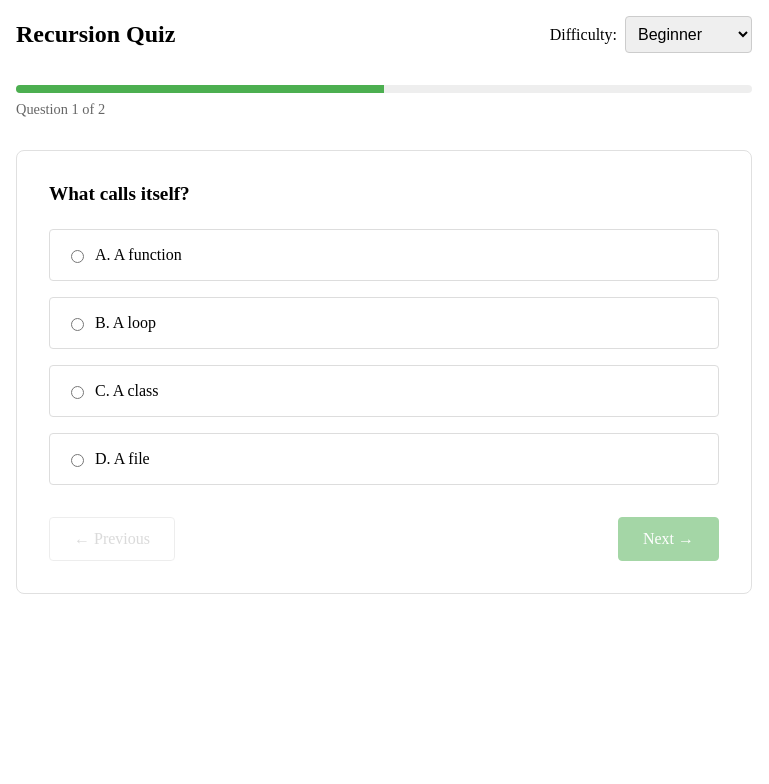
Test case: QuizPage › submits answers and shows the score
This screenshot has width=769, height=784.
Expected: the heading "What calls itself?" is shown, [49,183,190,204]
Click the radio button labelled "A. A function" at (78, 256), box [71,250,84,263]
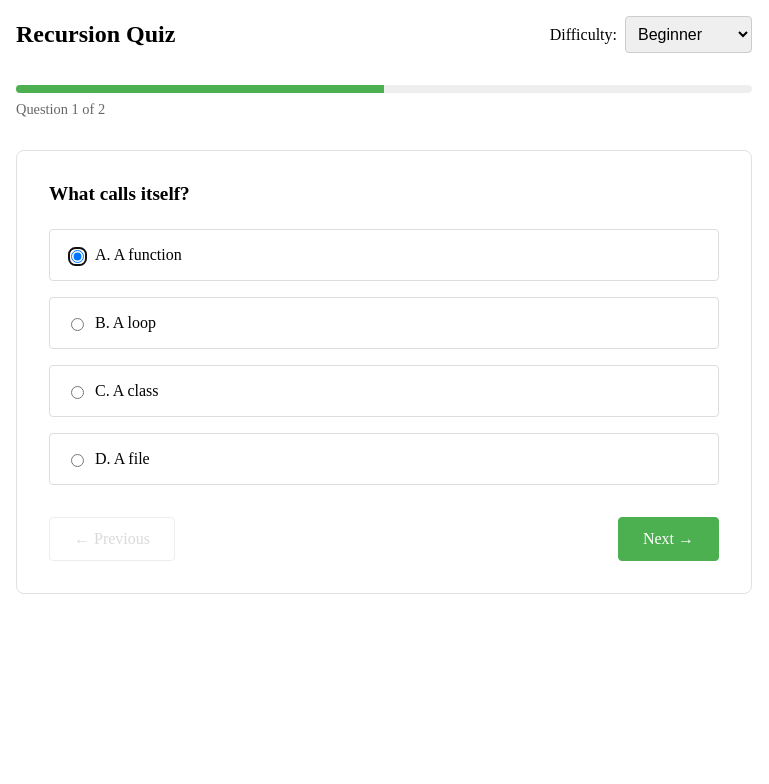
Click the button "Next →" at (668, 539), box [618,517,719,561]
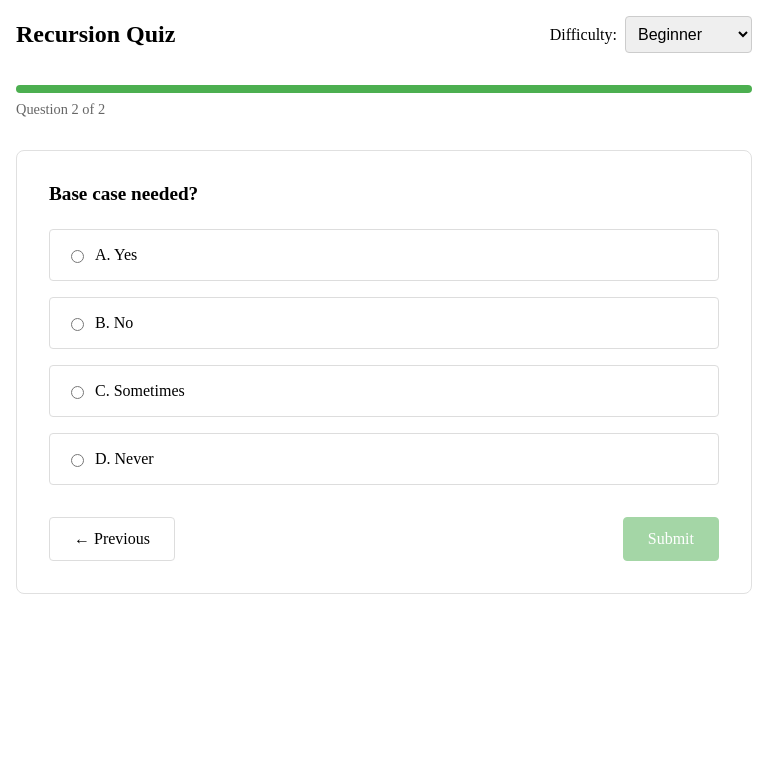
Click the radio button labelled "B. No" at (78, 324), box [71,318,84,331]
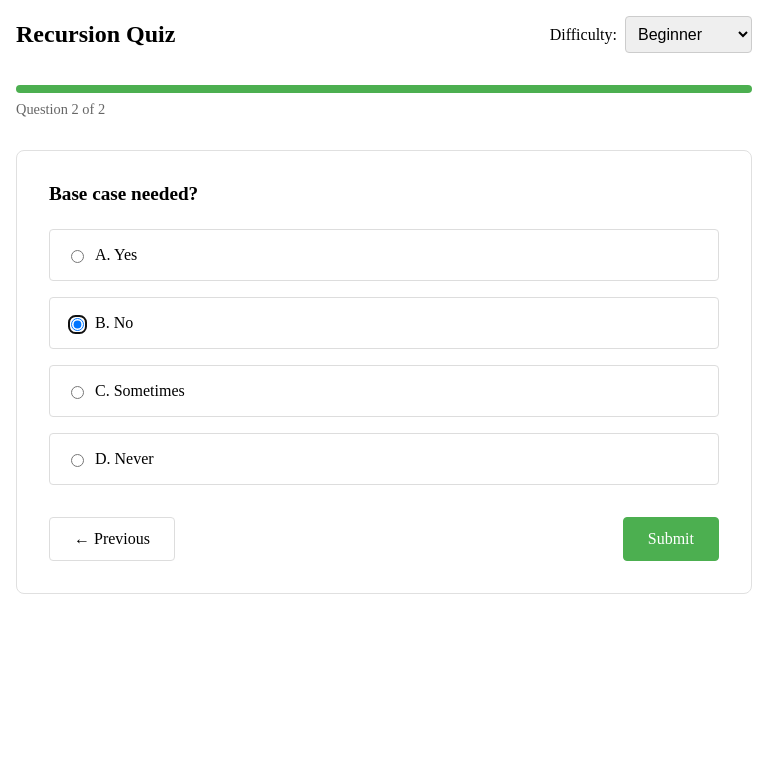
Click the button "Submit" at (671, 539), box [623,517,719,561]
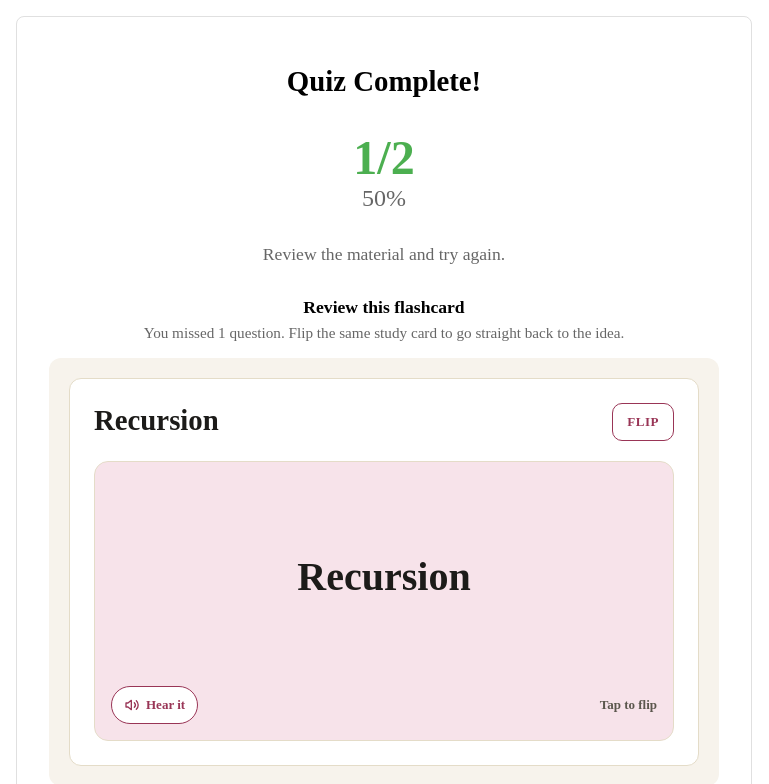
Result: the heading "Quiz Complete!" is shown at [287,65,481,97]
Result: the text "1/2" is shown at [353,131,415,184]
Result: the heading "Review this flashcard" is shown at [303,297,465,317]
